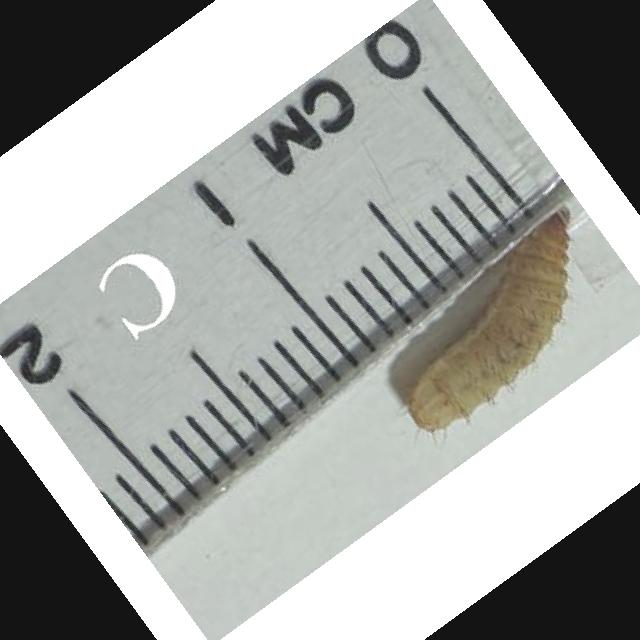Maggot: (401, 210, 579, 434)
